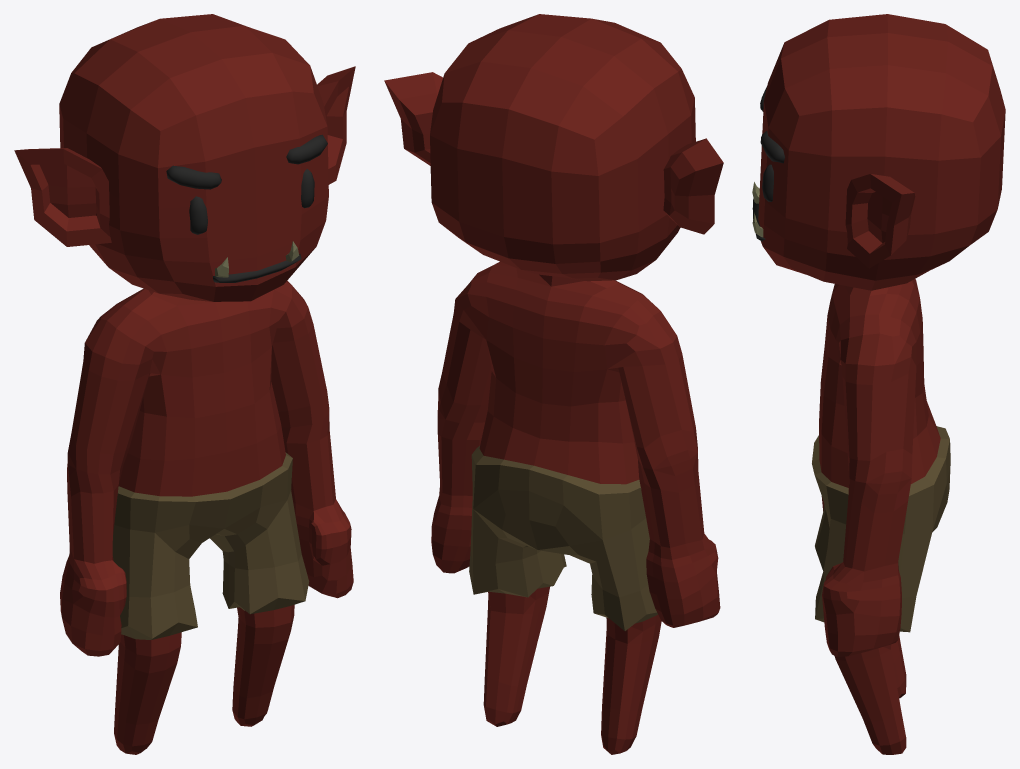
Rendered from Goblin_Male_Red.glb.
3 views of the same model, side by side, from view 1: azimuth 30°, elevation 25°; view 2: azimuth 150°, elevation 25°; view 3: azimuth 270°, elevation 25° (orthographic). The views are drawn at different scales.
Visible parts, largest first — view 1: Body_Cube.004; view 2: Body_Cube.004; view 3: Body_Cube.004.
Part boxes in pixels (x1,y1,x2,y2): Body_Cube.004: [14, 14, 355, 754]; Body_Cube.004: [384, 14, 723, 754]; Body_Cube.004: [752, 14, 1005, 754].
Bounding box in the file's own units: 1.57 × 3.11 × 1.03.
